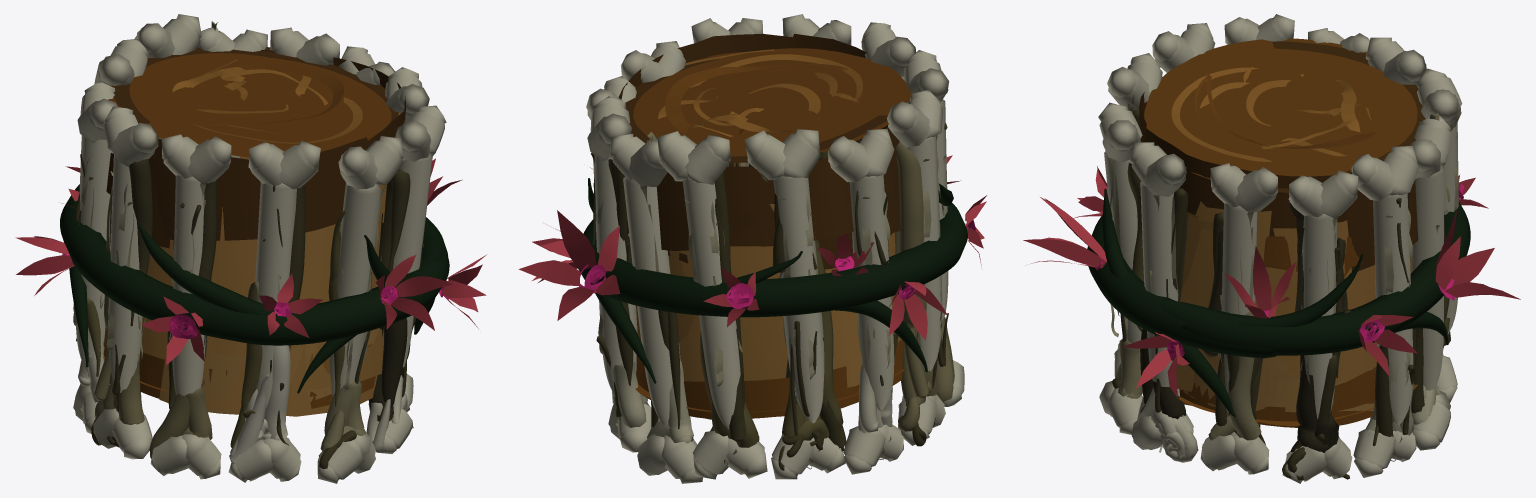
The model's file is druum.fbx.
3 views of the same model, side by side, from view 1: azimuth 30°, elevation 25°; view 2: azimuth 150°, elevation 25°; view 3: azimuth 270°, elevation 25° (orthographic). The views are drawn at different scales.
Parts seen in each view (by area): view 1: brush_DoubleTaperedMarker_g0_b1; view 2: brush_DoubleTaperedMarker_g0_b1; view 3: brush_DoubleTaperedMarker_g0_b1.
Boxes of the visible parts, left/top/right/bottom form: brush_DoubleTaperedMarker_g0_b1: left=15, top=14, right=486, bottom=483; brush_DoubleTaperedMarker_g0_b1: left=518, top=14, right=986, bottom=483; brush_DoubleTaperedMarker_g0_b1: left=1023, top=14, right=1520, bottom=483.
Size of the model in its own units: 96.95 by 82.71 by 107.
